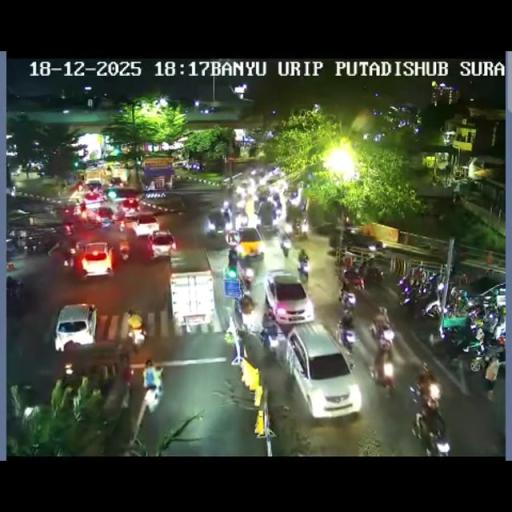Car: (278, 323, 360, 418), (442, 274, 504, 326), (170, 270, 216, 334), (263, 270, 313, 326), (54, 302, 96, 352), (76, 241, 115, 278), (338, 229, 386, 254), (234, 226, 264, 261), (147, 230, 176, 260), (131, 214, 160, 238), (312, 222, 338, 242), (94, 206, 116, 227), (82, 190, 106, 208), (120, 197, 140, 214), (85, 178, 102, 190), (109, 177, 123, 187)
Motorcycle: (410, 393, 450, 454), (438, 319, 486, 367), (402, 282, 440, 319), (370, 349, 396, 394), (142, 359, 163, 408), (480, 335, 505, 367), (101, 364, 121, 402), (335, 318, 356, 352), (370, 319, 394, 348), (20, 233, 50, 254), (126, 318, 146, 348), (240, 298, 258, 330), (341, 268, 365, 291), (361, 264, 384, 287), (408, 374, 425, 404), (258, 325, 278, 350), (6, 276, 24, 302), (62, 242, 78, 268), (339, 288, 356, 311), (122, 359, 134, 389), (296, 258, 310, 282), (451, 270, 469, 288), (241, 265, 254, 289), (492, 317, 505, 341), (410, 265, 423, 287), (6, 238, 19, 258), (234, 212, 248, 230), (270, 202, 284, 220), (222, 202, 232, 224), (227, 247, 238, 267), (206, 220, 218, 238), (282, 219, 294, 237), (280, 237, 290, 257), (298, 217, 309, 235), (254, 196, 265, 214), (120, 241, 130, 260), (62, 222, 74, 236), (236, 196, 246, 210), (64, 362, 74, 376), (118, 218, 126, 233), (81, 206, 89, 221), (300, 198, 306, 213)
